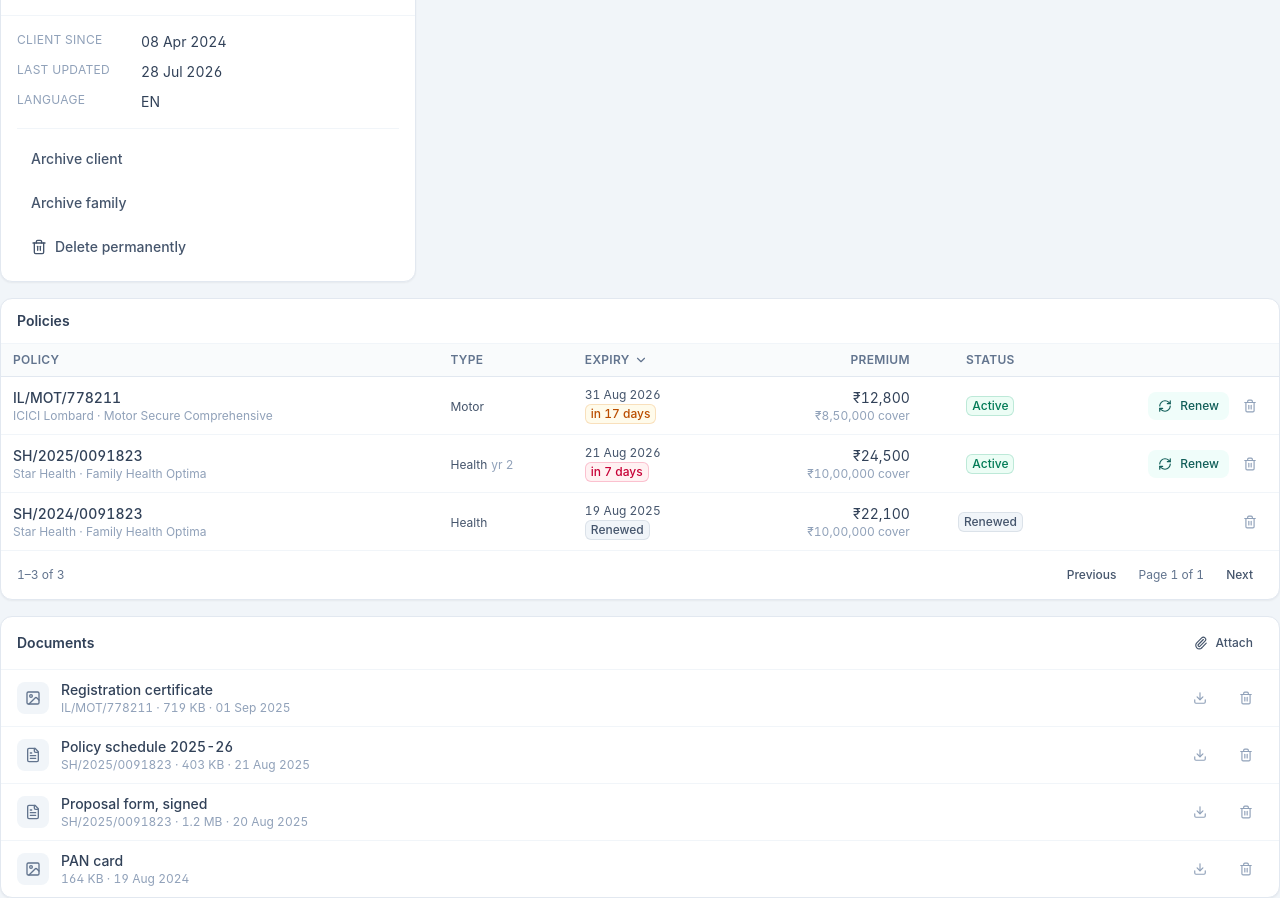
the client's policies › deletes a policy year after asking
(page scrolled)
Check: the table is shown, box [1,344,1279,550]
Click the button named "Delete" in the row of "yr": (1250, 464) [1233,450,1267,476]
(page scrolled)
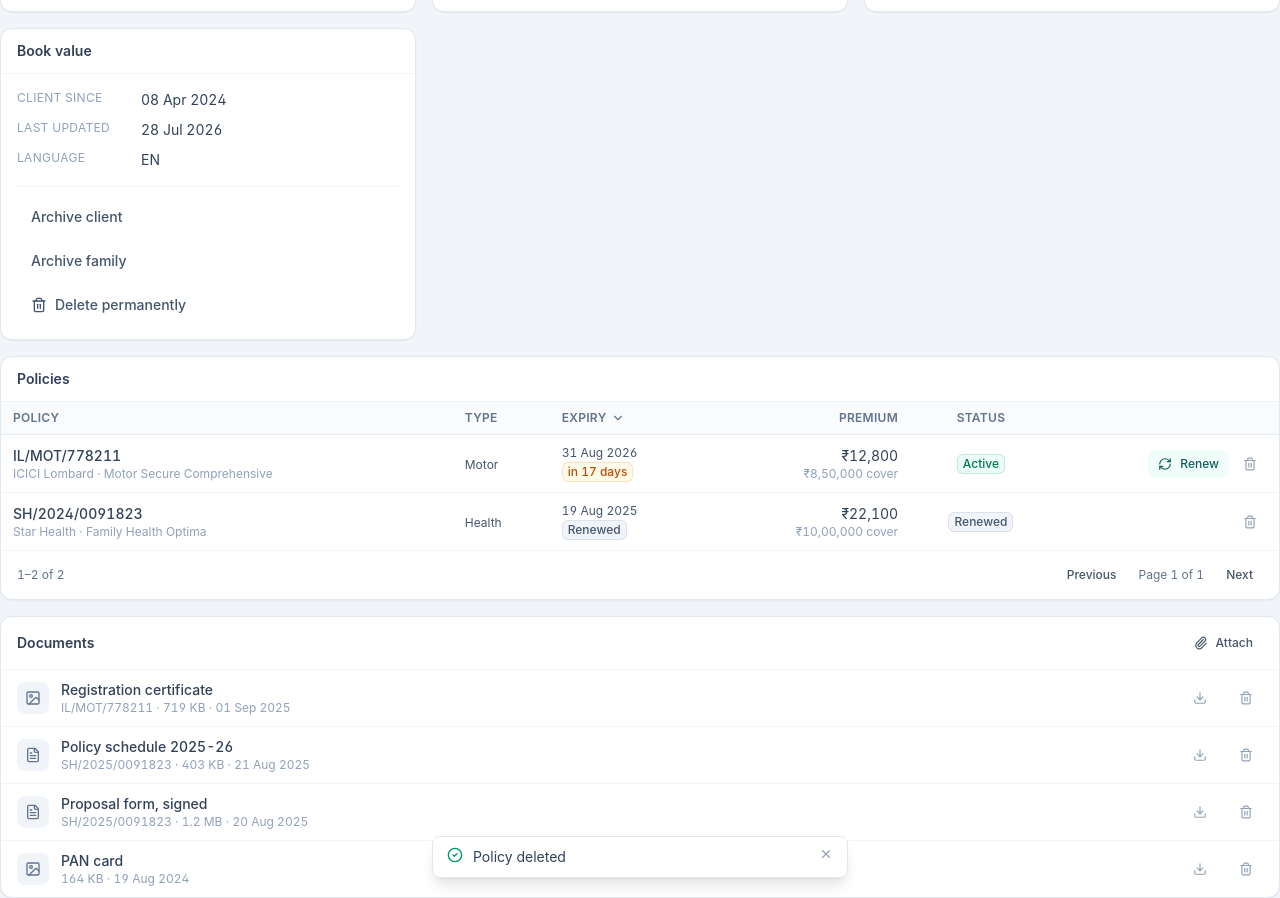
Check: the text "Policy deleted" is shown, box [473,848,566,865]
